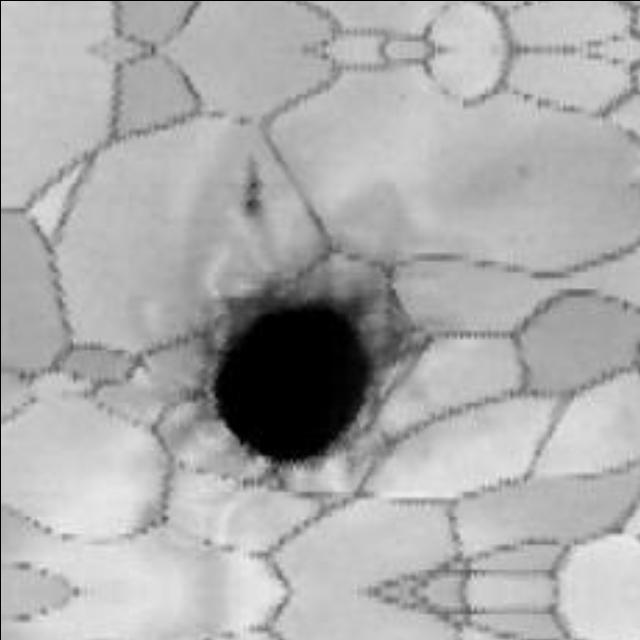good_void: (147, 223, 427, 514), (241, 174, 263, 209)
